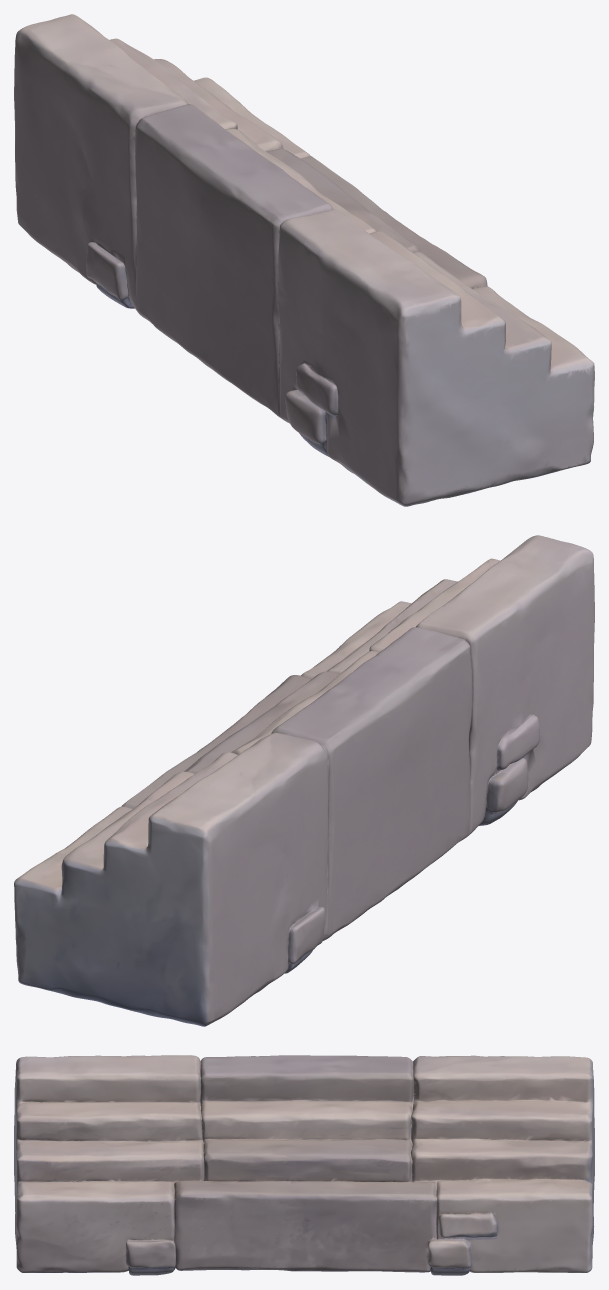
Rendered from bleacher.glb.
The picture shows the model from 3 angles, top to bottom: view 1: azimuth 30°, elevation 25°; view 2: azimuth 150°, elevation 25°; view 3: azimuth 270°, elevation 25°; orthographic projection. The views are drawn at different scales.
Parts seen in each view (by area): view 1: tripo_node_41015dec-d9d8-43b1-869f-1df05e3c84ac; view 2: tripo_node_41015dec-d9d8-43b1-869f-1df05e3c84ac; view 3: tripo_node_41015dec-d9d8-43b1-869f-1df05e3c84ac.
Boxes of the visible parts, x1,y1,x2,y2 form: tripo_node_41015dec-d9d8-43b1-869f-1df05e3c84ac: (14,14,594,506); tripo_node_41015dec-d9d8-43b1-869f-1df05e3c84ac: (14,535,594,1026); tripo_node_41015dec-d9d8-43b1-869f-1df05e3c84ac: (14,1055,594,1275).
Bounding box in the file's own units: 0.324 × 0.2963 × 1.
Materials: 1 (1 with a texture image).
